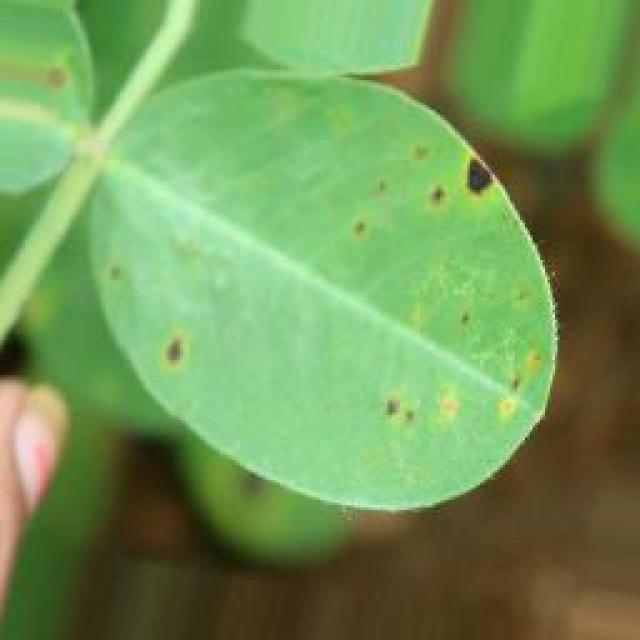Sigatoka: (469, 335, 544, 441), (440, 156, 500, 223), (134, 328, 190, 399), (354, 375, 416, 432), (416, 355, 456, 440), (83, 253, 151, 303), (401, 175, 452, 229), (341, 202, 385, 252)
